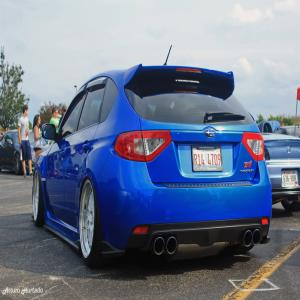Vehicle-registration-plate: (192, 146, 225, 173), (283, 169, 300, 188)
